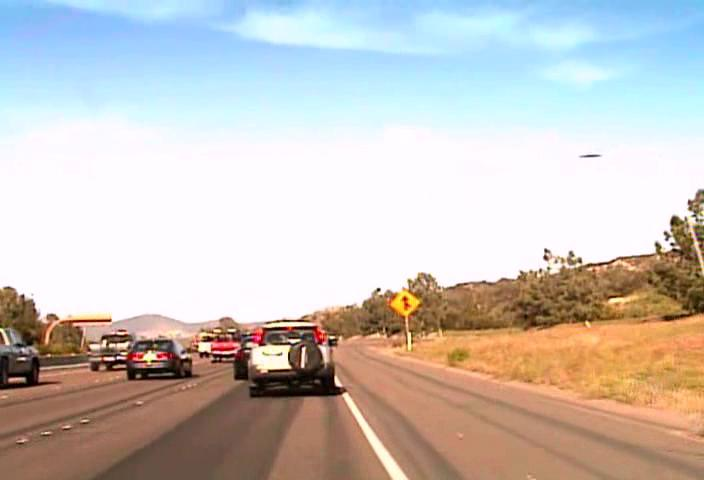merge: (388, 288, 421, 317)
